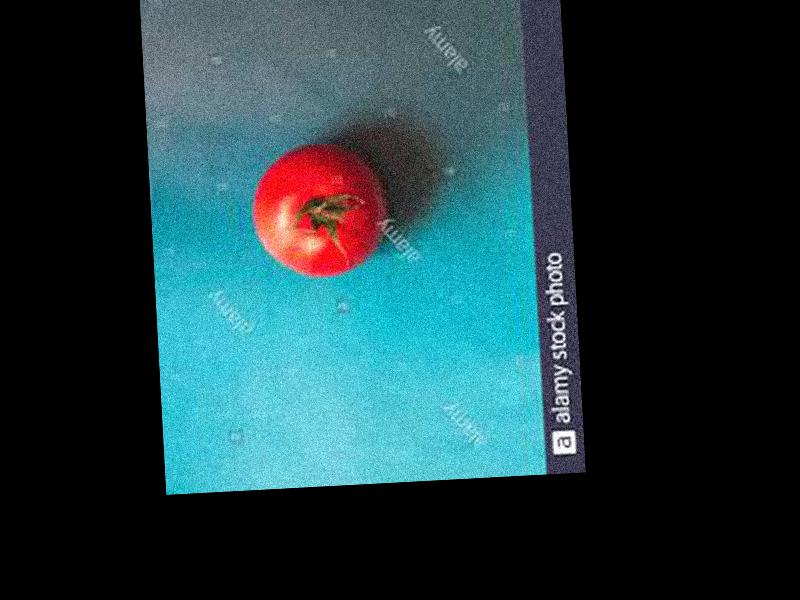Tomato: (248, 142, 391, 279)
